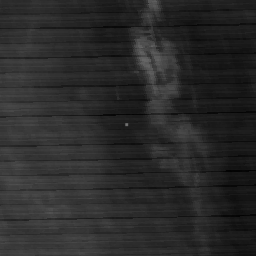Target: (124, 121, 130, 128)
